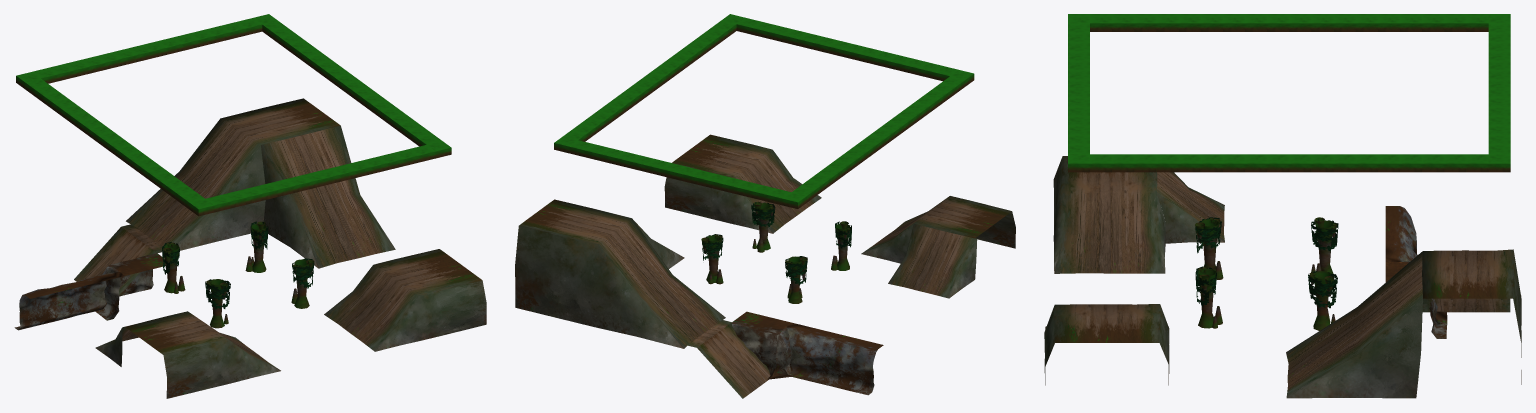
The model's file is Stage_Block_4_4.fbx.
The picture shows the model from 3 angles, left to right: view 1: azimuth 30°, elevation 25°; view 2: azimuth 150°, elevation 25°; view 3: azimuth 270°, elevation 25°; orthographic projection. The views are drawn at different scales.
Parts seen in each view (by area): view 1: Stage_Block_4_4_1, Stage_Block_4_4_2; view 2: Stage_Block_4_4_1, Stage_Block_4_4_2; view 3: Stage_Block_4_4_1, Stage_Block_4_4_2.
Part boxes in pixels (left/top/right/bottom): Stage_Block_4_4_1: left=14, top=98, right=486, bottom=398; Stage_Block_4_4_2: left=16, top=14, right=451, bottom=216; Stage_Block_4_4_1: left=515, top=134, right=1015, bottom=398; Stage_Block_4_4_2: left=554, top=14, right=974, bottom=208; Stage_Block_4_4_1: left=1044, top=156, right=1521, bottom=398; Stage_Block_4_4_2: left=1068, top=14, right=1510, bottom=172.
Bounding box in the file's own units: 4157 × 2634 × 4311.
Materials: 5 (5 with a texture image).
